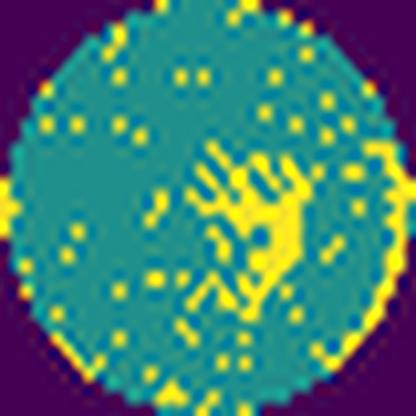Loc: (186, 139, 313, 320)
